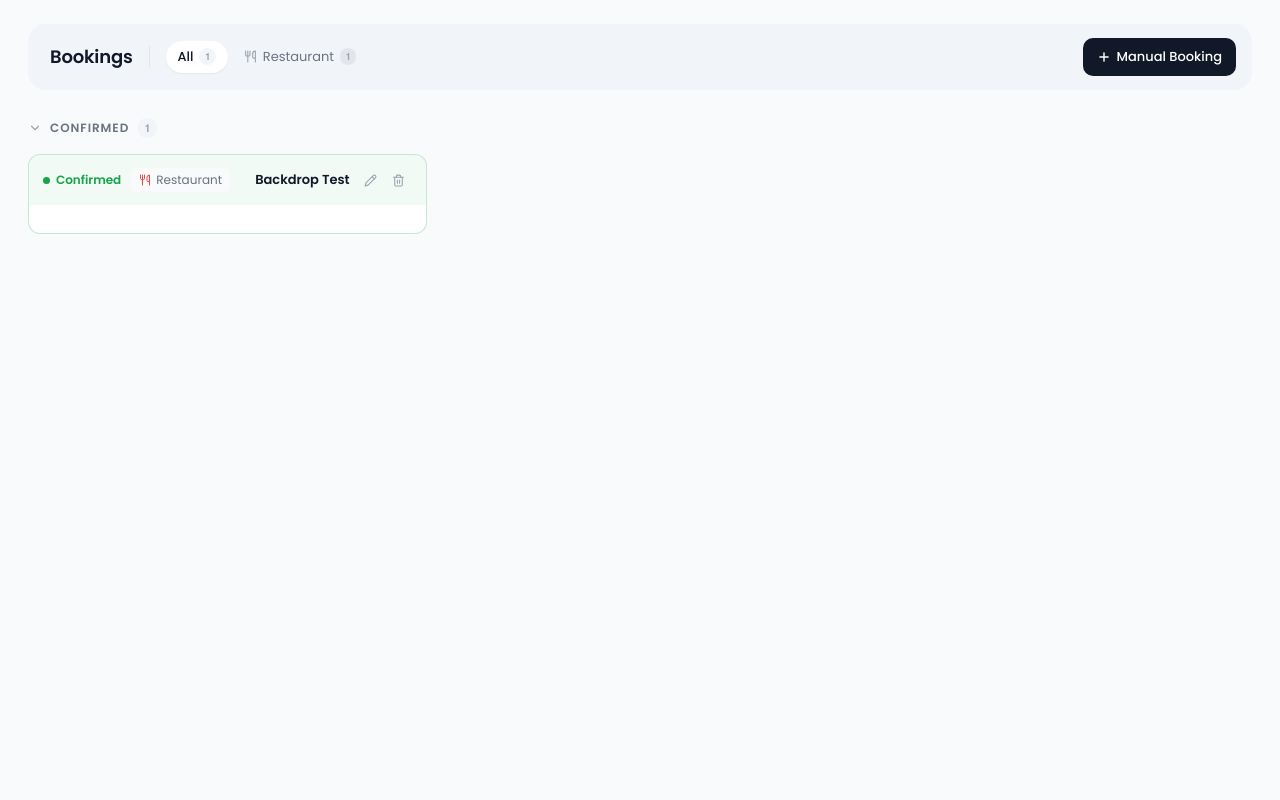
it: ReservationsPanel › FE-PLANNER-RESP-036: clicking backdrop closes delete confirm dialog
What coordinates should you click on to do the following:
click the button titled "Delete"
I would click on:
 (399, 180)
Its box is [386,167,412,193].
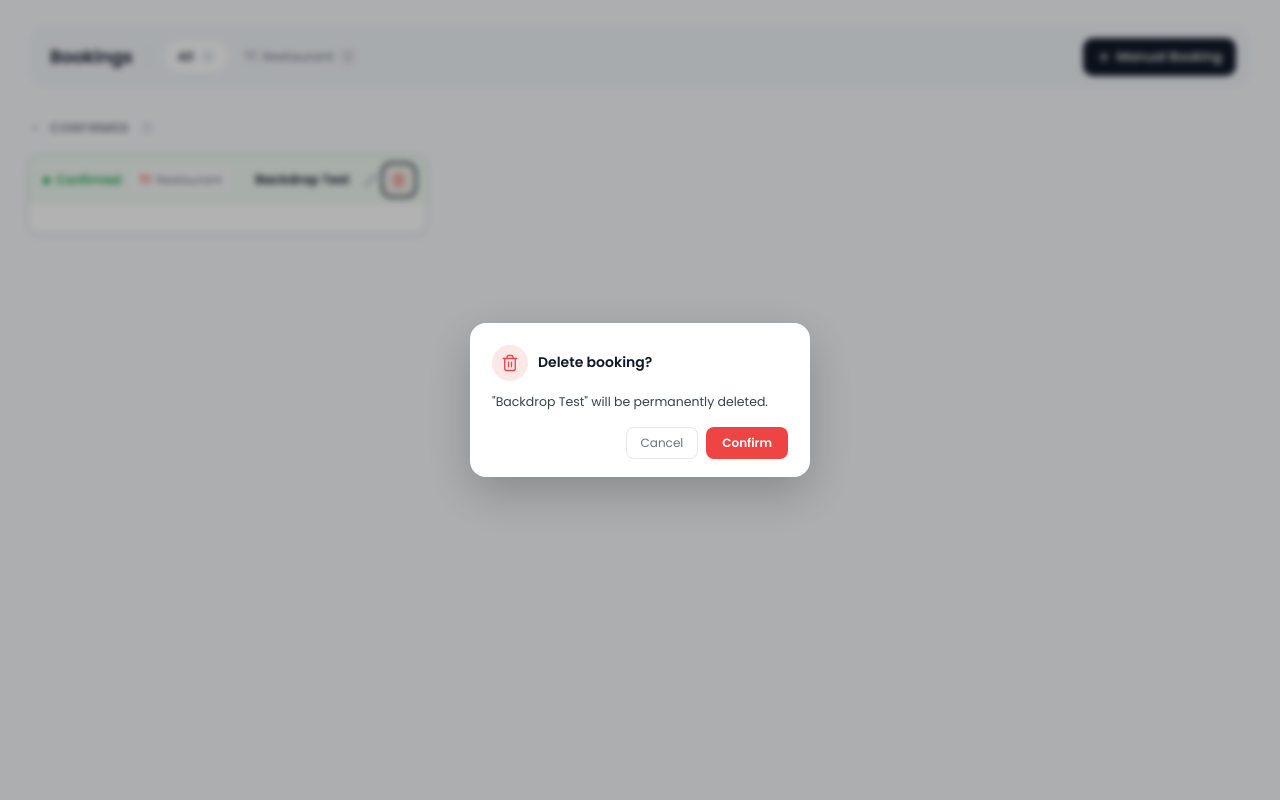
Now the button "Cancel" is shown, box [626,427,698,459]
Click the fixed backdrop (the outermost div of the portal)
What coordinates should you click on to do the following:
click the element that starts with "Delete booking?"
I would click on:
 (77, 400)
Its box is [0,0,1279,799].
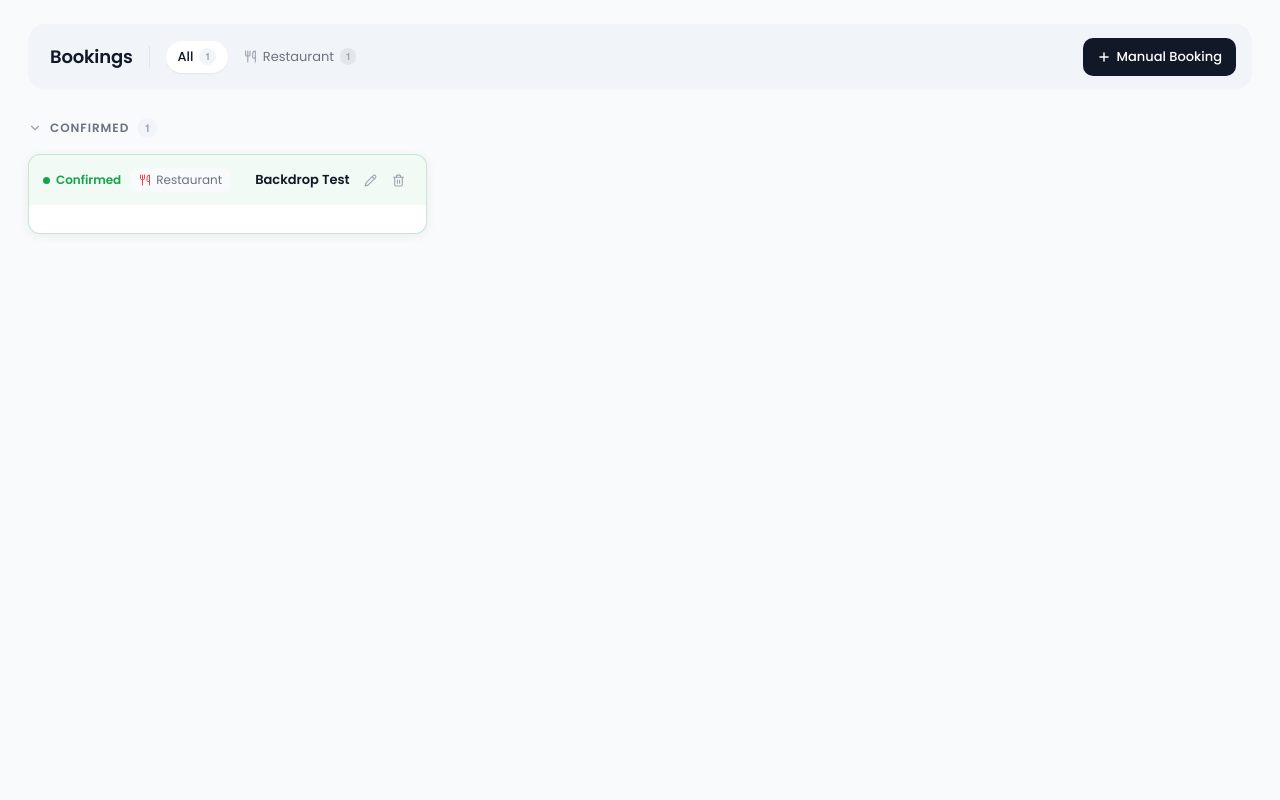
Now the button "Cancel" is gone
